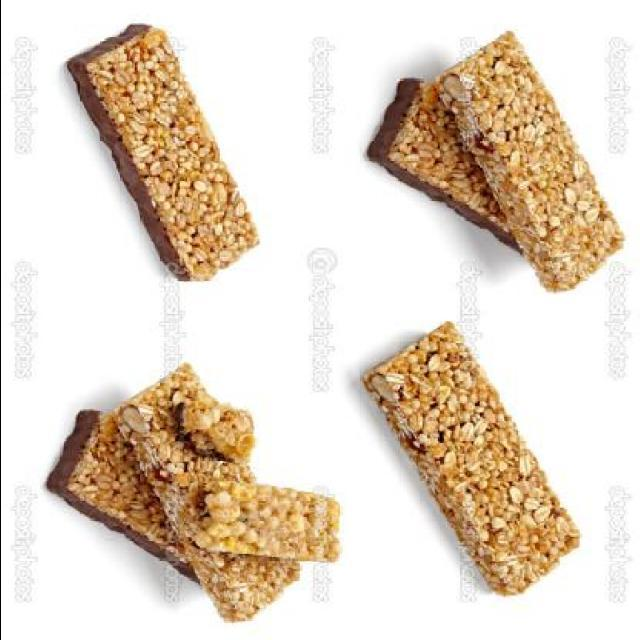Cereal bar packaged: (371, 324, 578, 600), (443, 39, 625, 296), (77, 20, 248, 291), (204, 486, 338, 566)
